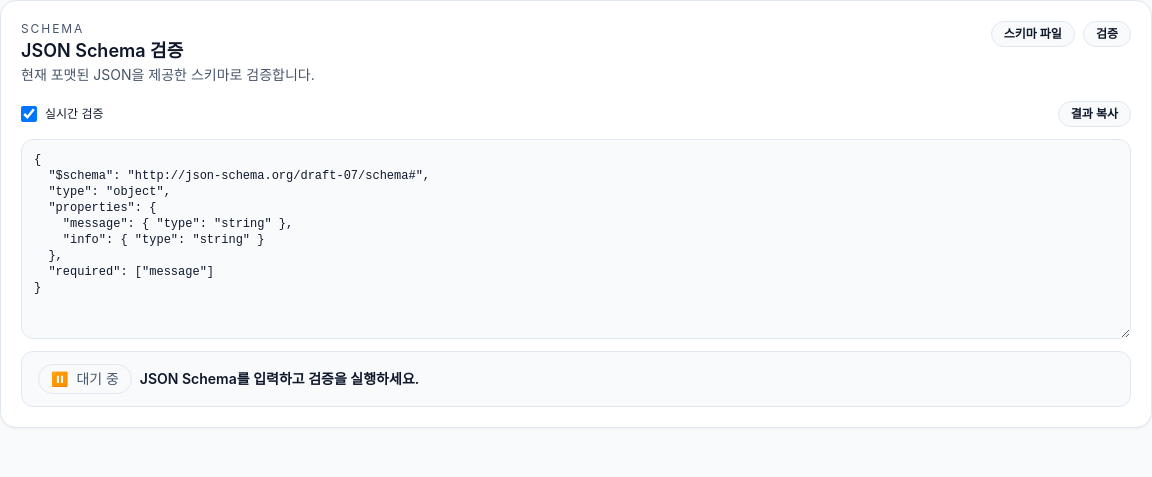
Scenario: JsonSchemaValidator › shows error for invalid schema text
Replace the text in the text box with "invalid json": (576, 239) left=21, top=139, right=1131, bottom=339
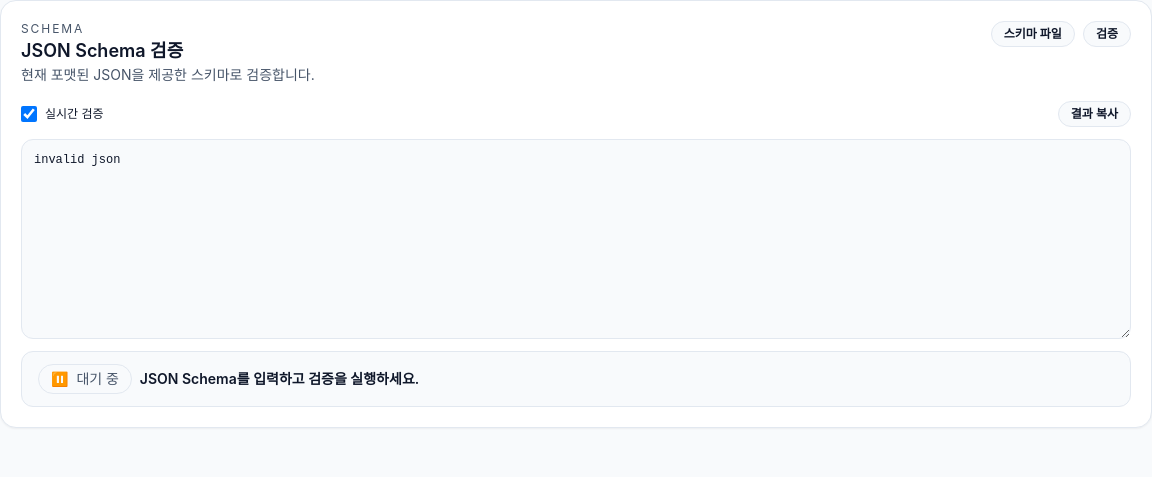
Click the button "검증": (1107, 34) left=1083, top=21, right=1131, bottom=47
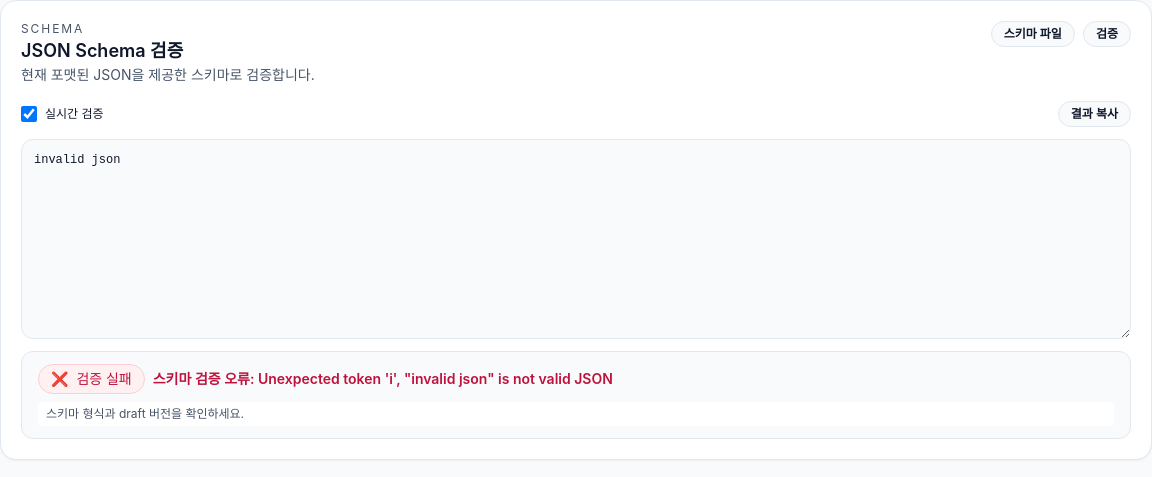
Expected: the text "스키마 검증 오류" is shown, left=153, top=370, right=613, bottom=387
